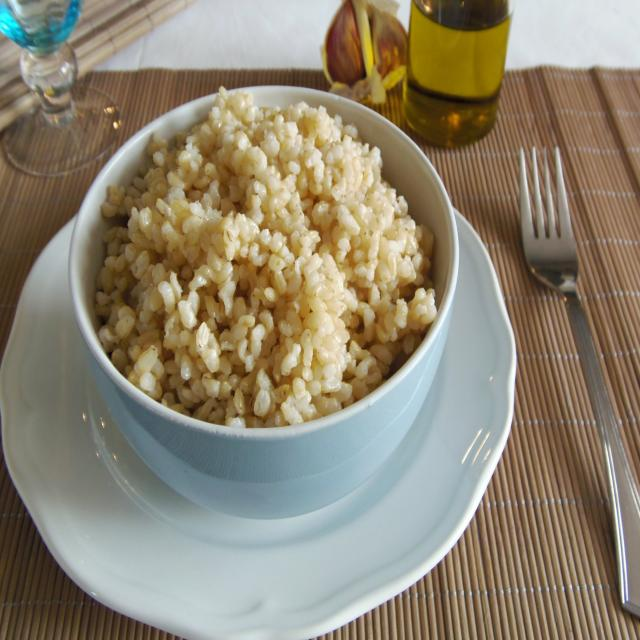arroz: (84, 77, 441, 421)
